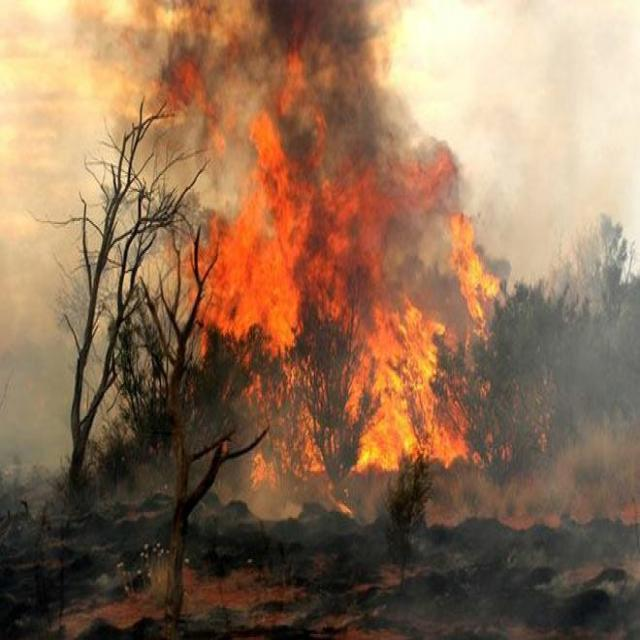fire: (134, 8, 497, 467)
